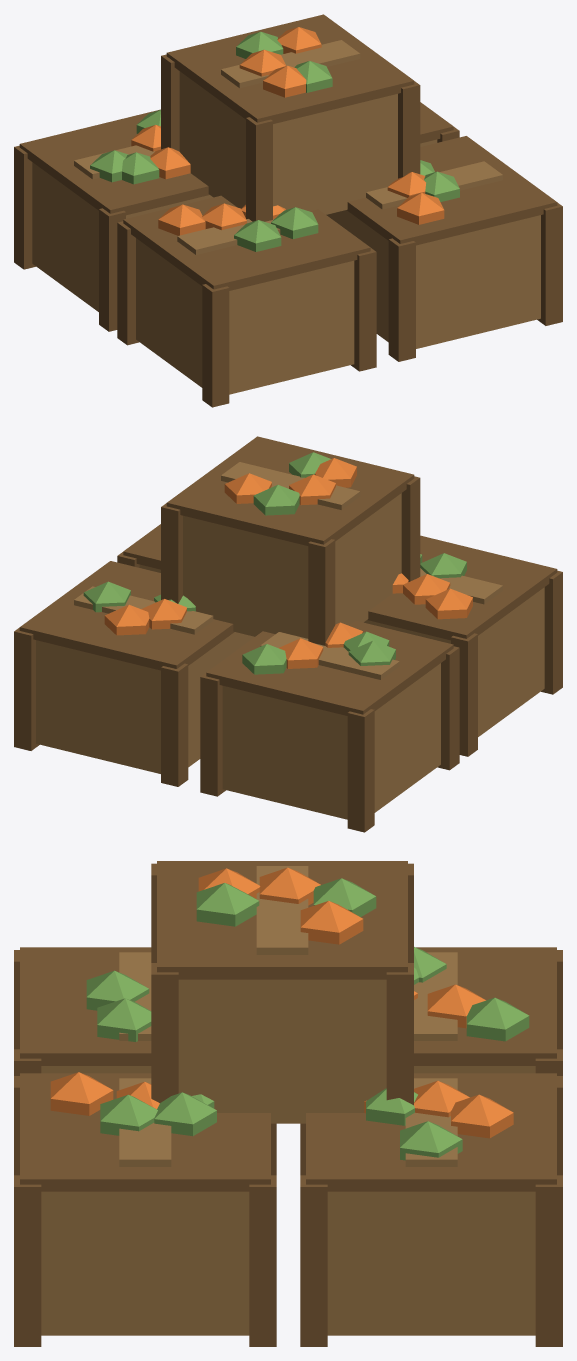
Rendered from pile_vegetables_2.glb.
3 renders of one model, top to bottom at view 1: azimuth 30°, elevation 25°; view 2: azimuth 150°, elevation 25°; view 3: azimuth 270°, elevation 25°, orthographic. The views are drawn at different scales.
Visible parts, largest first — view 1: pile_vegetables_2; view 2: pile_vegetables_2; view 3: pile_vegetables_2.
Boxes of the visible parts, box(x1,y1,x2,y2) form: pile_vegetables_2: box(14, 14, 562, 407); pile_vegetables_2: box(14, 436, 562, 832); pile_vegetables_2: box(14, 861, 562, 1346).
Size of the model in its own units: 1.43 by 0.969 by 1.4.
